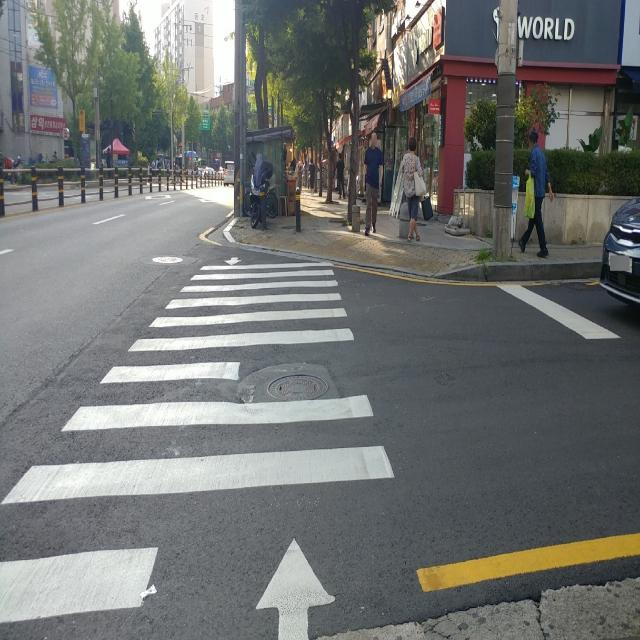횡단보도: (0, 251, 398, 639)
